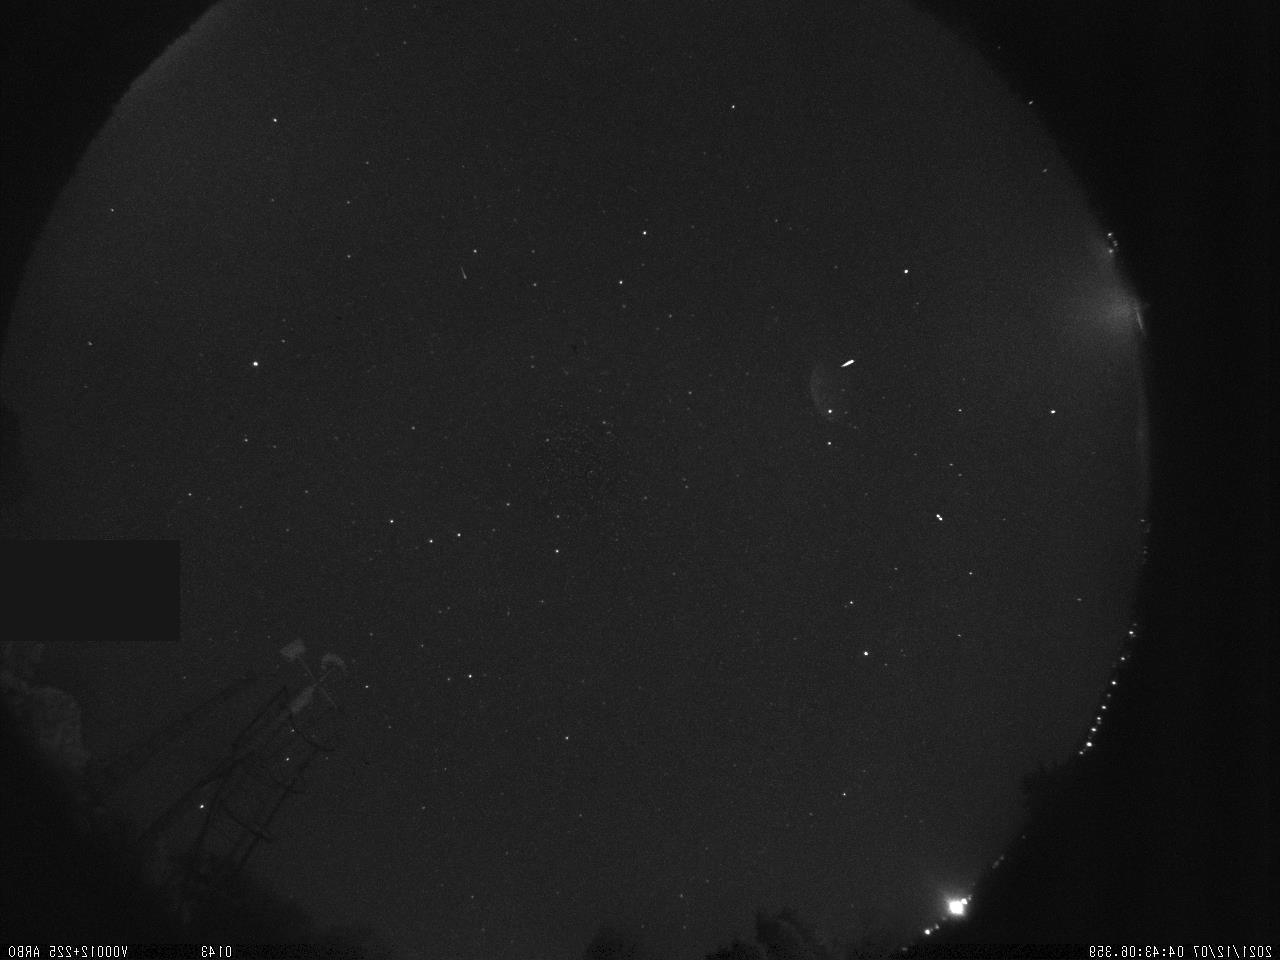meteor: (835, 347, 858, 376)
